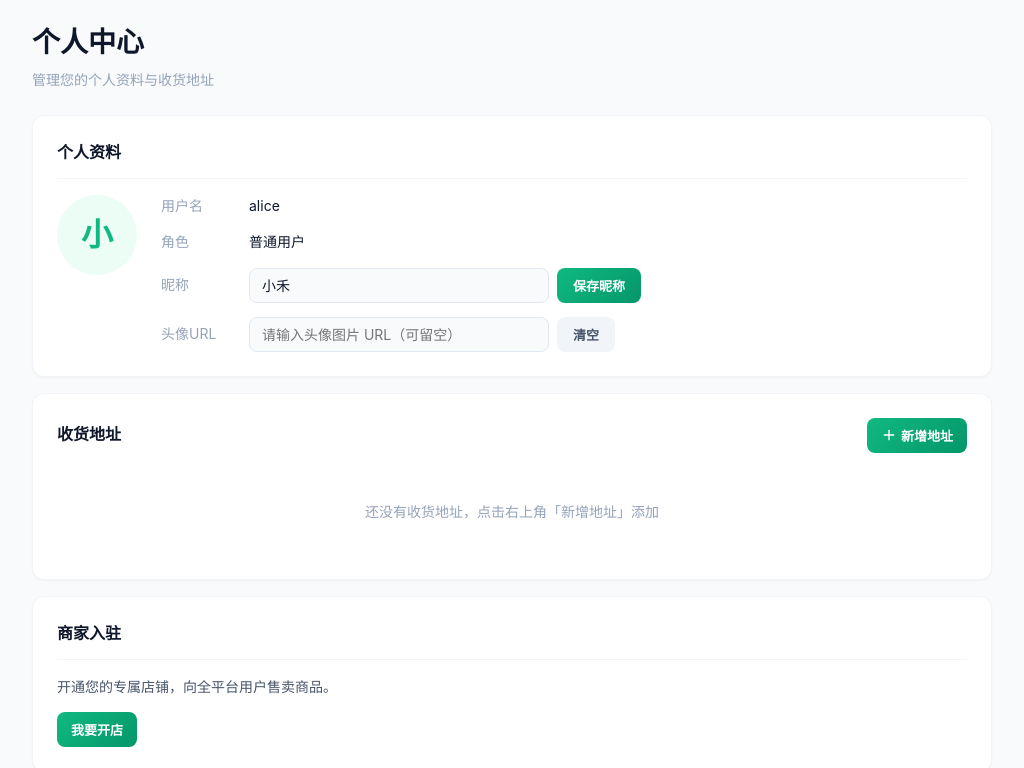
it: Profile 个人中心页 › 开店弹窗未填店铺名时提交按钮禁用
Click the button "我要开店". click: (97, 729)
box: [57,712,137,747]
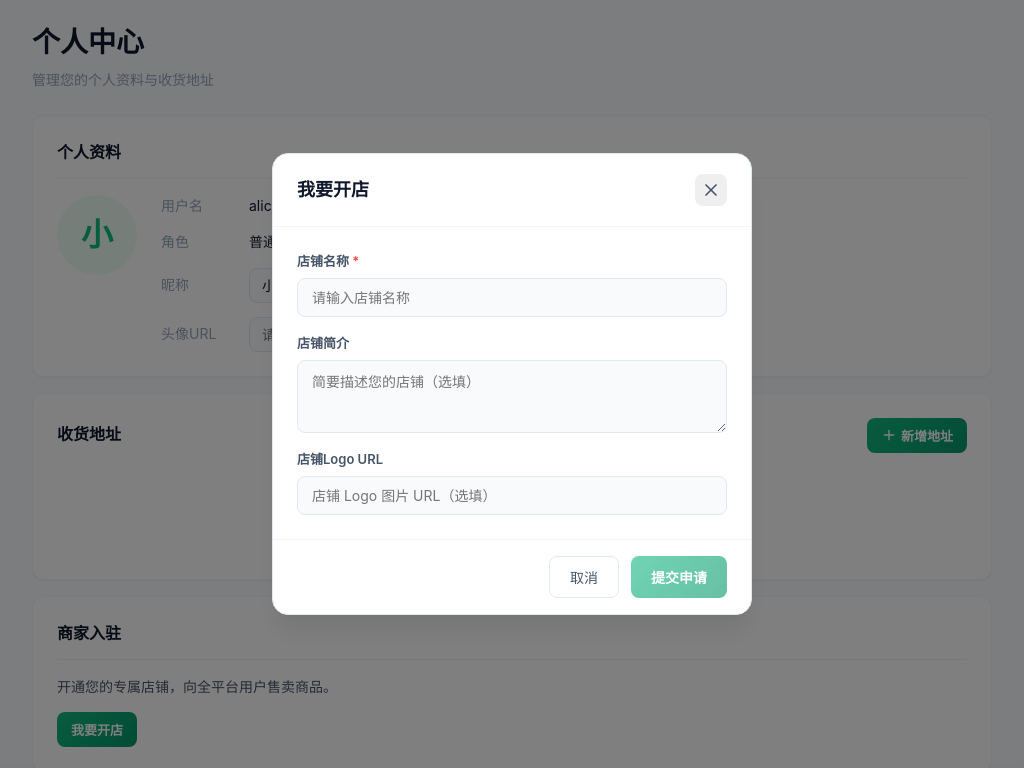
Expected: the button with class "btn-confirm" is disabled, [631,556,727,598]
